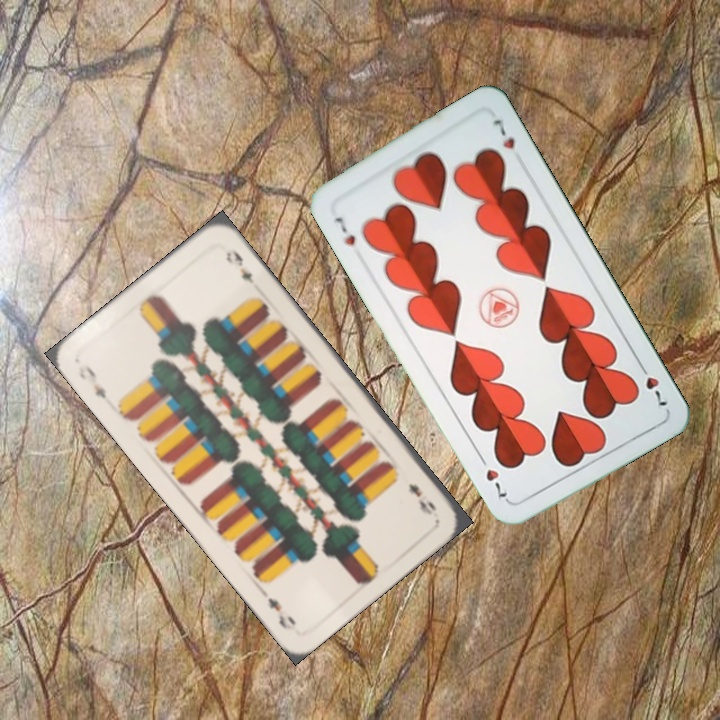E9: (73, 361, 109, 401), (404, 479, 440, 518)
H7: (634, 358, 670, 409), (328, 213, 359, 248)
